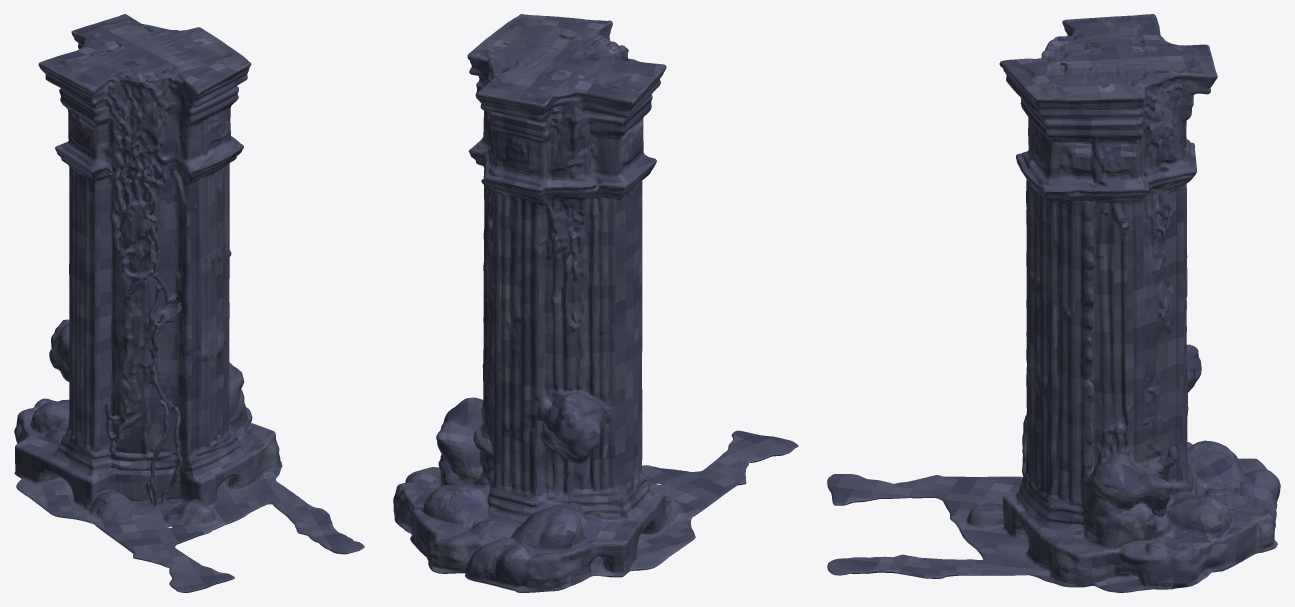
File: weathered-monolith-pillar-generated-2026-04-19T23-51-13-313Z.high.glb
The picture shows the model from 3 angles, left to right: view 1: azimuth 30°, elevation 25°; view 2: azimuth 150°, elevation 25°; view 3: azimuth 270°, elevation 25°; orthographic projection. The views are drawn at different scales.
Parts seen in each view (by area): view 1: temp_mesh.ply; view 2: temp_mesh.ply; view 3: temp_mesh.ply.
Part boxes in pixels (x1=…): temp_mesh.ply: x1=14, y1=14, x2=364, y2=592; temp_mesh.ply: x1=393, y1=14, x2=798, y2=592; temp_mesh.ply: x1=827, y1=14, x2=1280, y2=592.
Size of the model in its own units: 1.14 by 1.97 by 1.73.
Materials: 1 (1 with a texture image).
